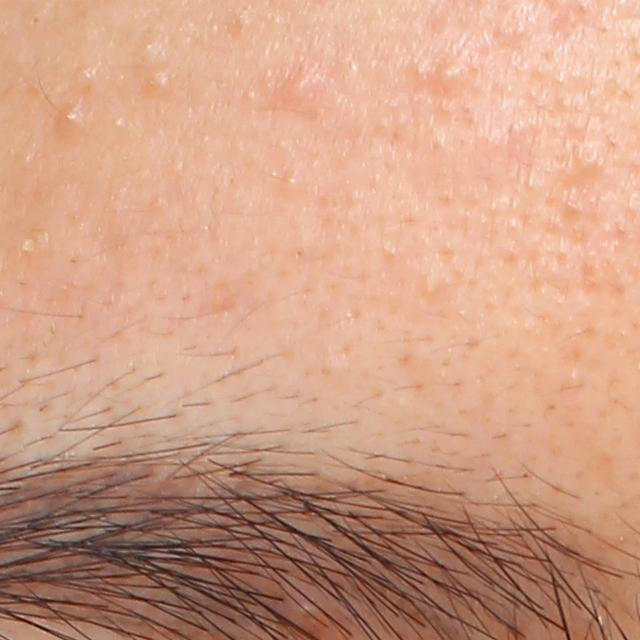comedo: (416, 268, 455, 304), (21, 3, 49, 39), (576, 143, 606, 173), (142, 66, 173, 94), (75, 61, 105, 89)
papule: (285, 65, 325, 112)
